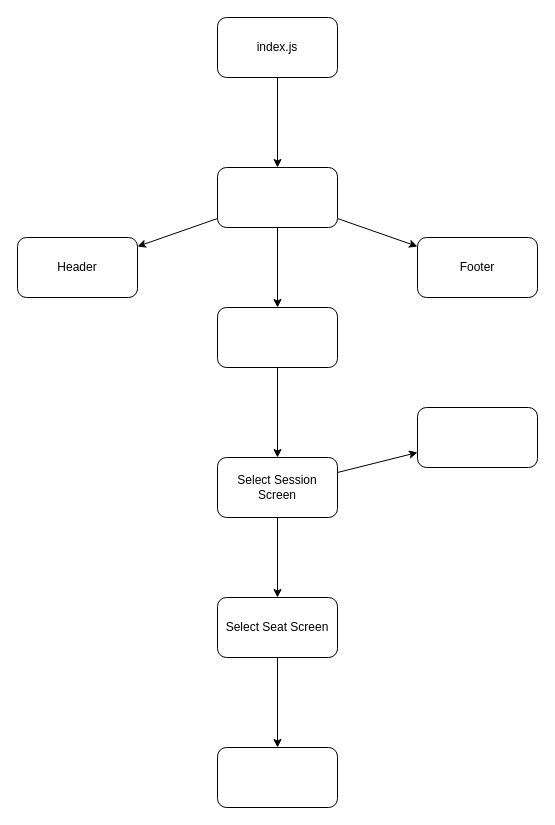
The diagram is 555 pixels wide and 825 high, and some of its shapes have lost their labels. Here are the shapes that lost their labels. From the top down, the centre of each, then its label:
(x=277, y=197): App
(x=277, y=337): Select Movie Screen
(x=277, y=777): Success Screen
